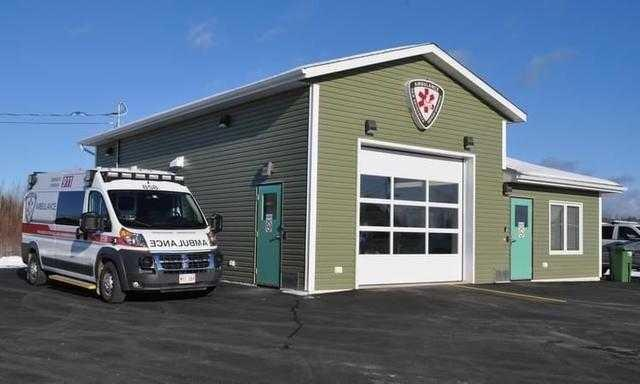car: (19, 165, 223, 303)
